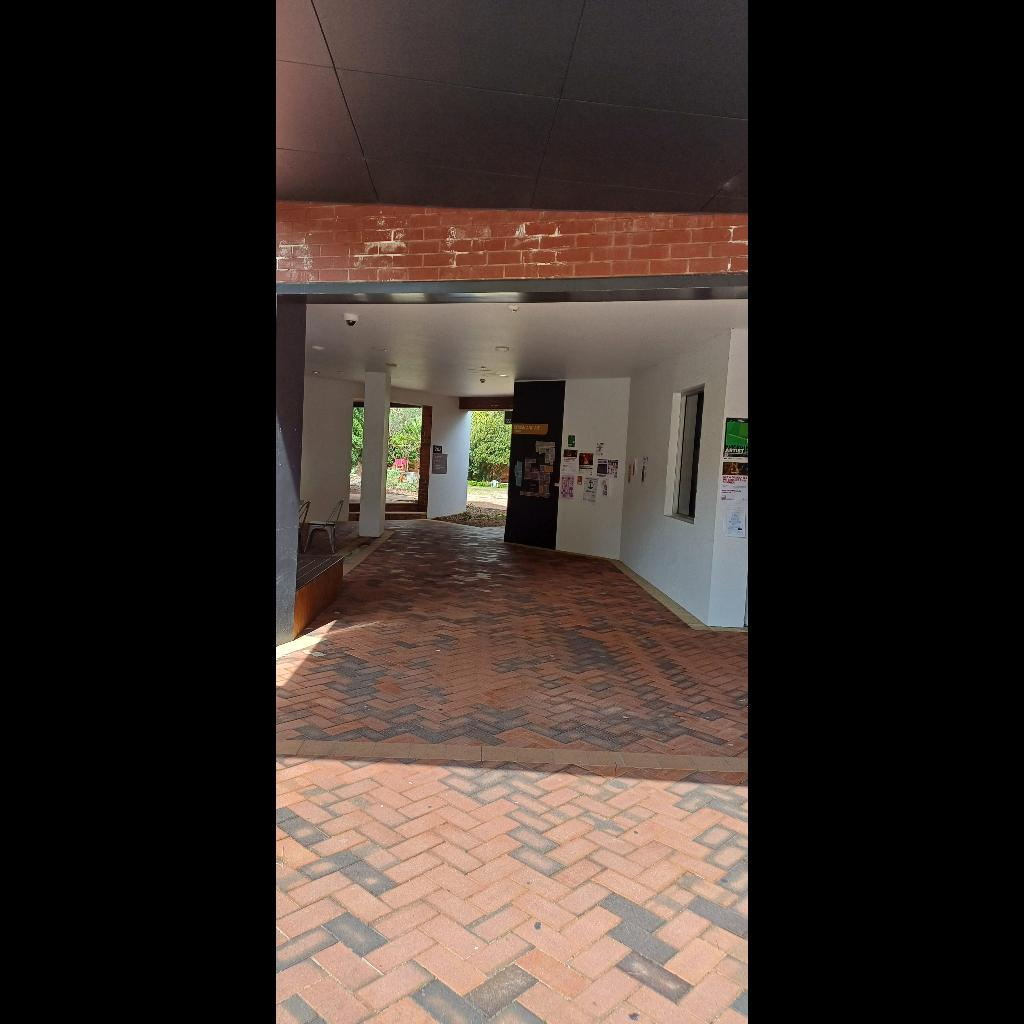BuildingCodes: (434, 446, 442, 452), (504, 418, 512, 424)
